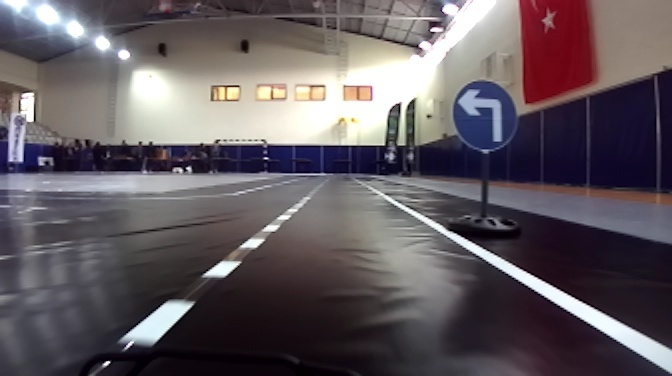sola_donus: (453, 77, 519, 149)
